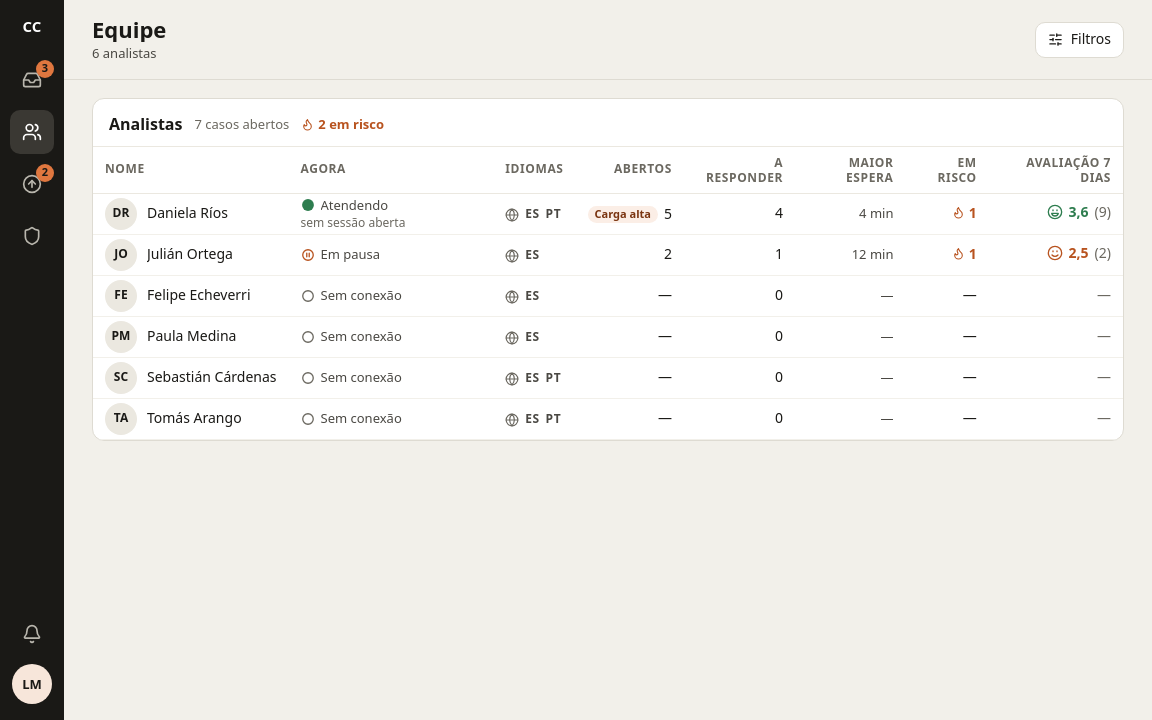
Test case: team screen in Portuguese (pt-BR) › lists the analysts with Portuguese headers, states and figures
Expected: the heading "Equipe" is shown, [92,16,166,42]
Expected: the text "6 analistas" is shown, [92,44,166,63]
Click the button "Julián Ortega" at (190, 255), box [147,244,233,265]
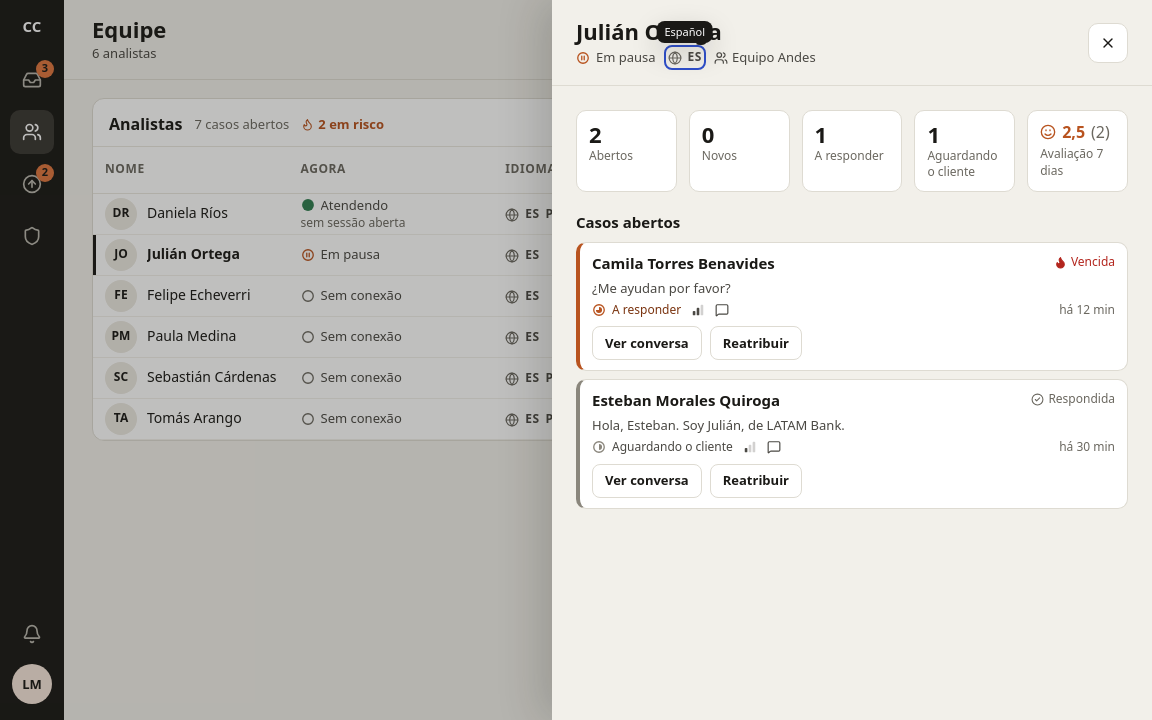
Now the text "Aguardando o cliente" is shown 2 times, box [927,148,1002,181]; [612,439,733,456]
Now the link with aria-label "Ver conversa de Camila Torres Benavides" is shown, box [592,326,702,360]
Now the button with aria-label "Reatribuir o caso de Camila Torres Benavides" is shown, box [710,326,802,360]
